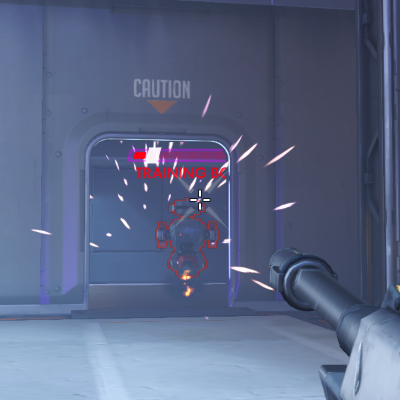hpbar: (133, 151, 226, 160)
